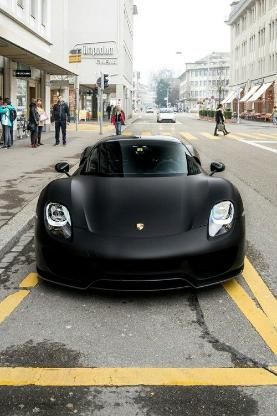car: (29, 130, 250, 301)
person: (49, 94, 73, 147), (27, 97, 40, 148), (110, 104, 127, 134)
